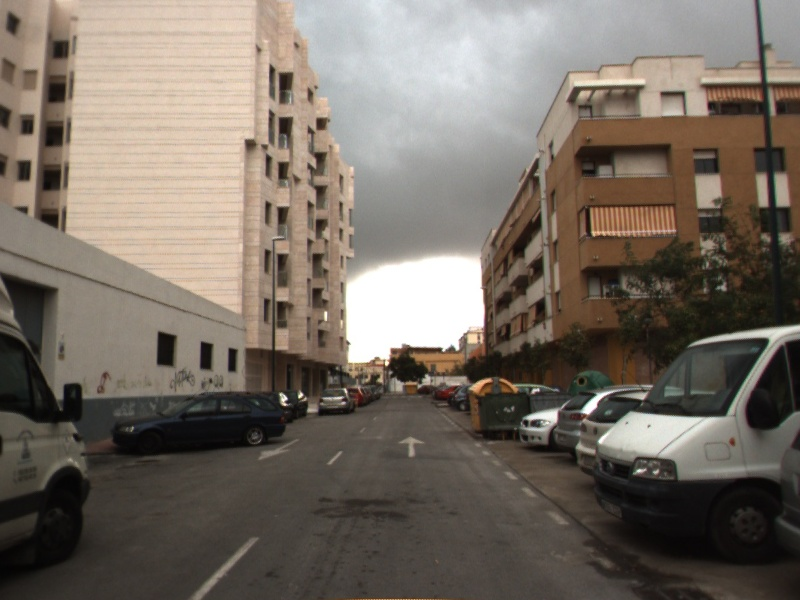STRAIGHT: (396, 433, 429, 460)
